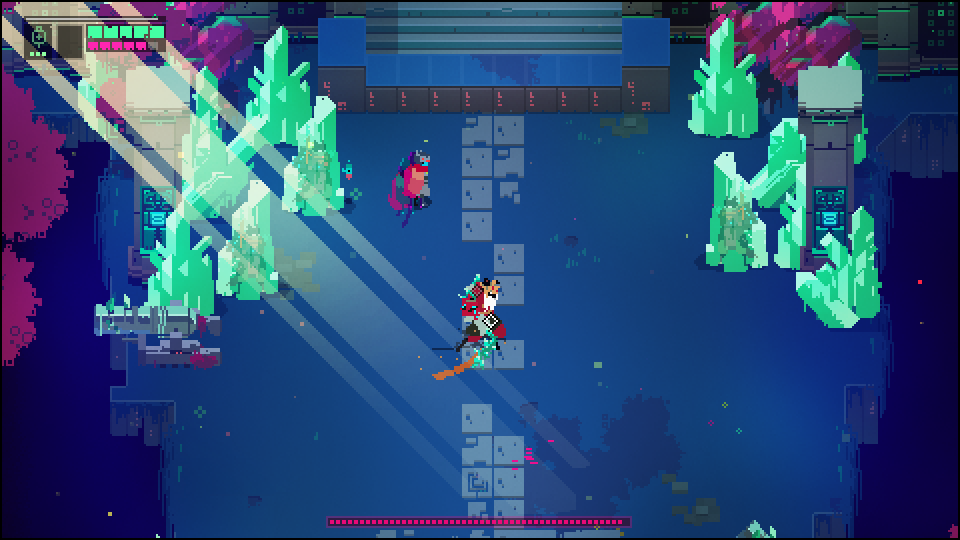hanged_man: (434, 274, 506, 379)
player: (406, 152, 431, 207)
